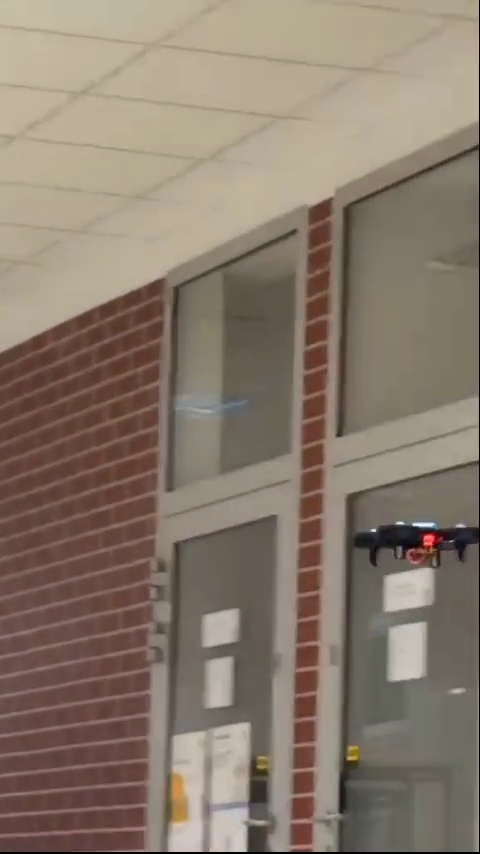drone: (349, 524, 480, 572)
